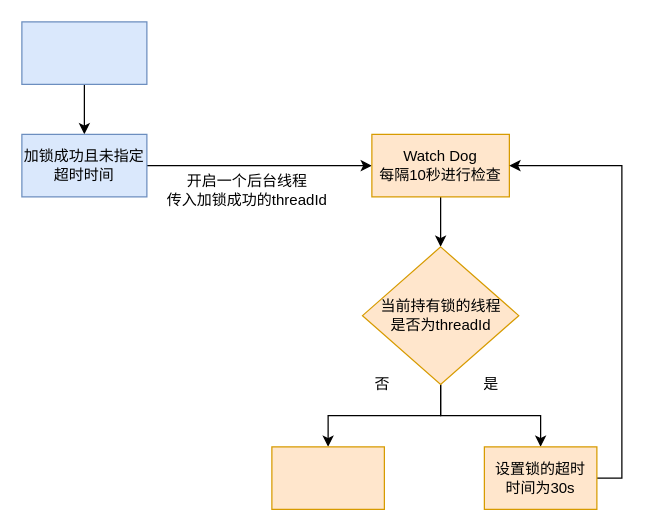
Image size: 654x531. Some labels were removed from this diagram. The shapes that lost their labels are listed below. From the top down, each one's centre as x and y in pixels, then its label:
At pixel 84 52: "客户端".
At pixel 327 477: "不再进行检查".
